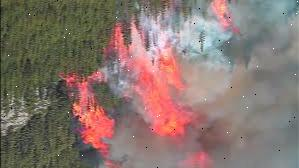fire: (63, 0, 244, 166)
